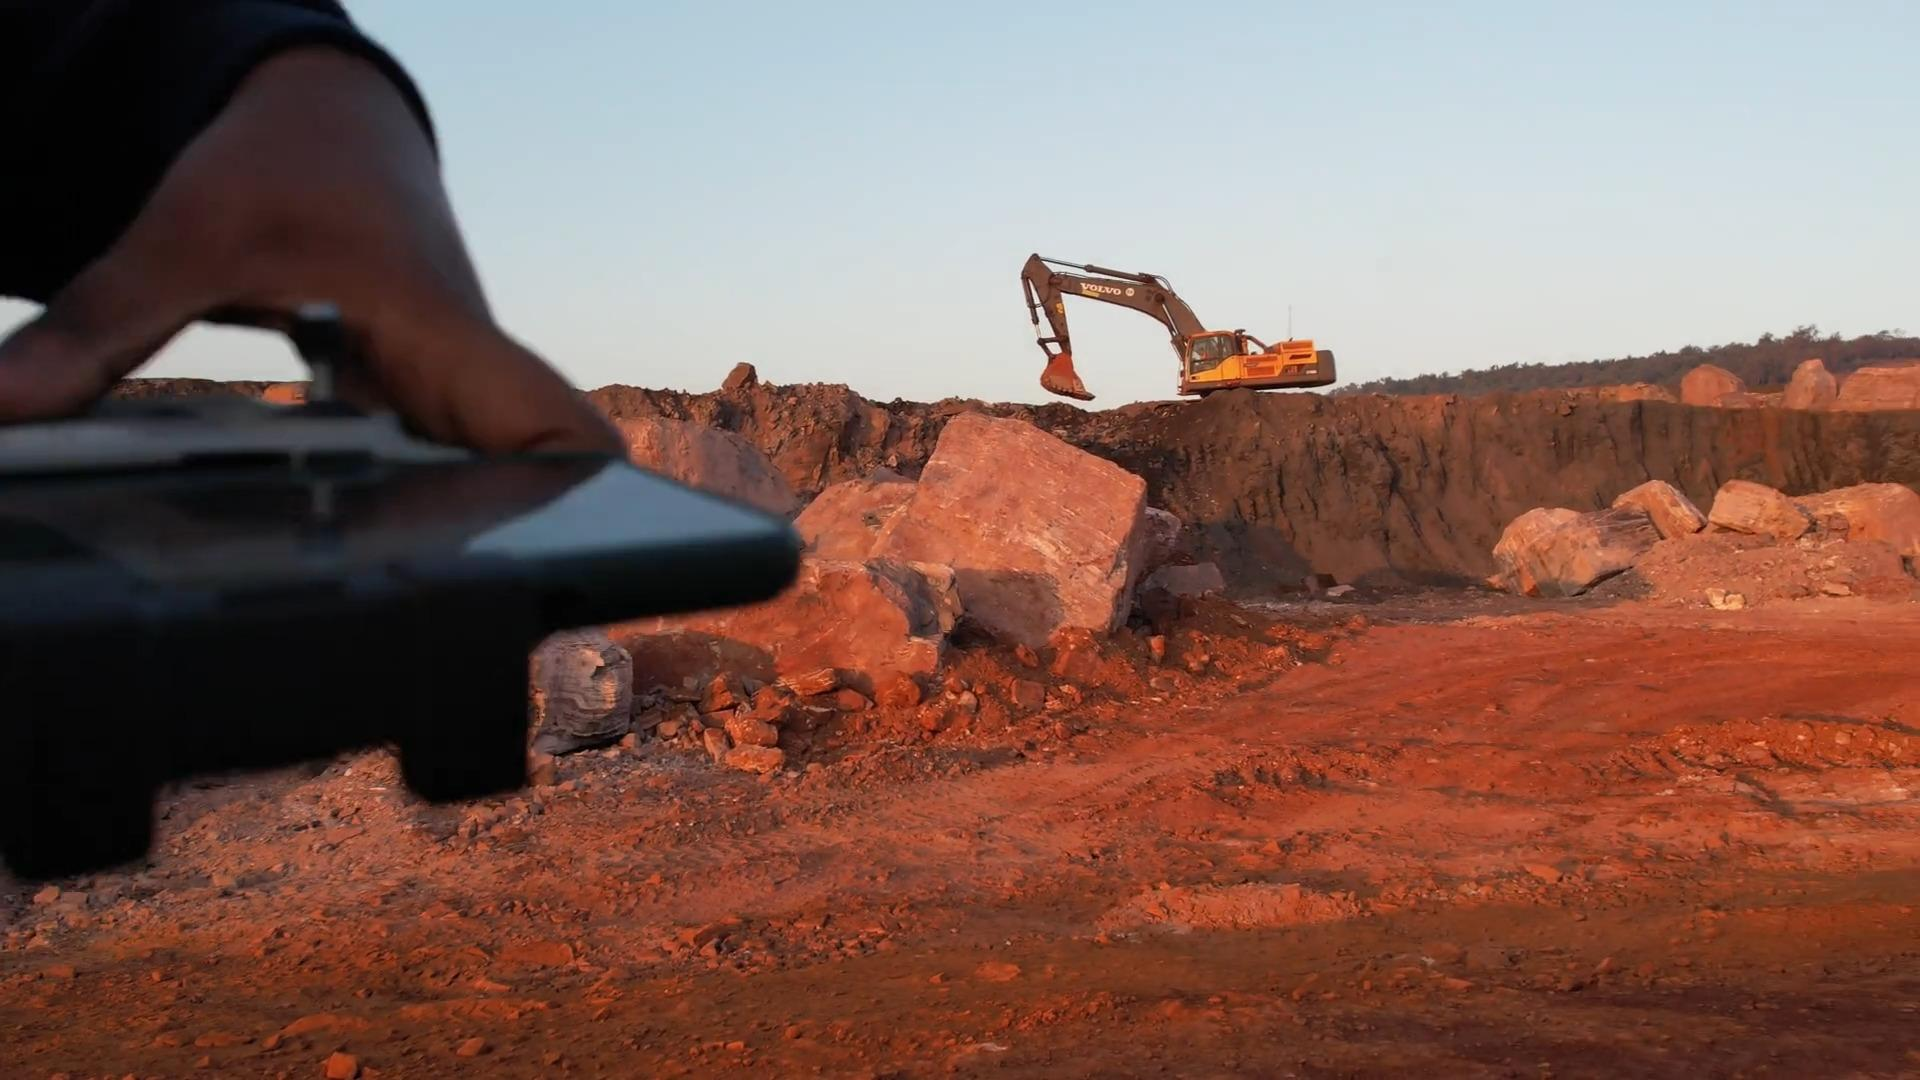excavator: (1018, 255, 1332, 392)
